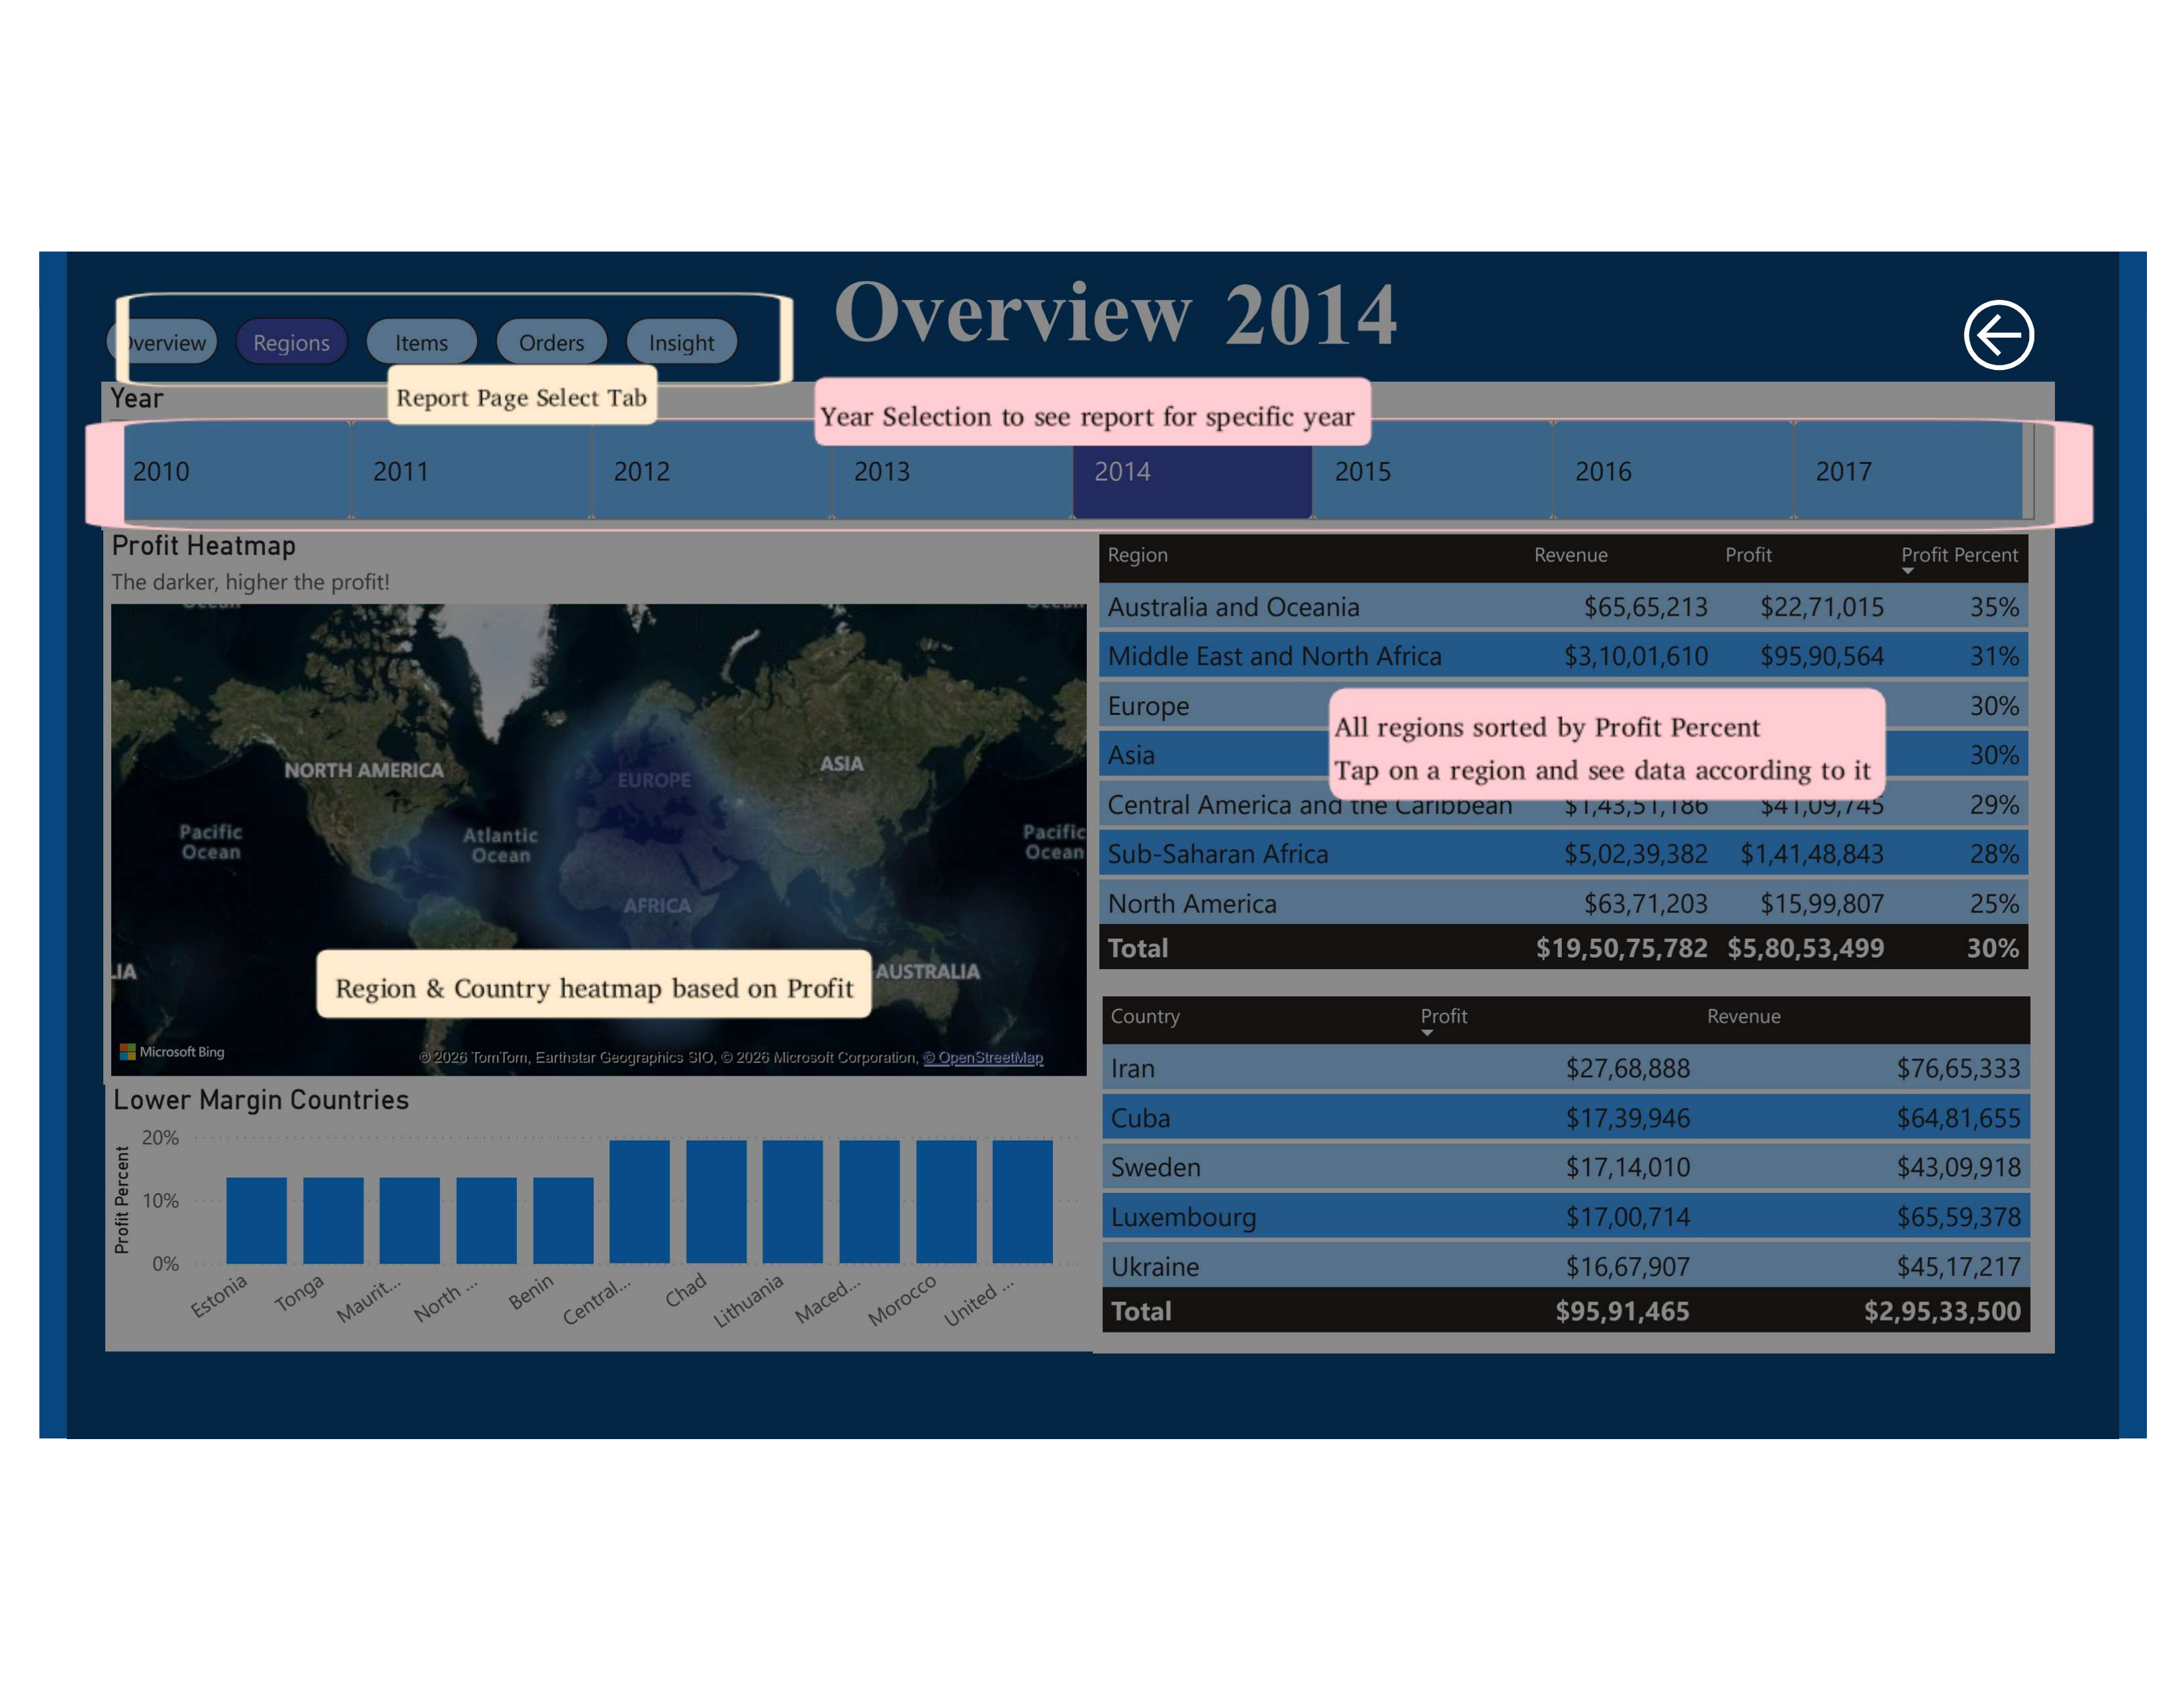

The page's visual inventory and layout, read from the dashboard file:
{"tool":"powerbi","page":{"name":"Regions","canvas":[1280,720],"ordinal":1},"visuals":[{"type":"textbox","box":[457.1,0,269.1,100.9],"z":0},{"type":"advancedSlicerVisual","fields":{"Values":["Date.Year"]},"box":[38.1,78.6,1185.7,90.5],"z":1000},{"type":"pageNavigator","box":[40.5,40.5,385.7,28.6],"z":3000},{"type":"card","fields":{"Values":["Records.This.Year"]},"box":[688.6,0,168.2,67.3],"z":4000},{"type":"map","title":"Profit Heatmap","fields":{"Category":["Country.Country"],"Size":["Records.This.Profit"]},"box":[39,167.6,601.7,337.6],"z":5000},{"type":"tableEx","title":"Revenue by Region","fields":{"Values":["Country.Region","Records.This.Revenue","Records.This.Profit","Records.Profit Percent"]},"box":[638.1,166.7,585.7,281],"z":6000},{"type":"tableEx","title":"Revenue by Region","fields":{"Values":["Country.Country","Records.This.Profit","Records.This.Revenue"]},"box":[639.9,446.6,584,221.2],"z":7000},{"type":"columnChart","title":"Lower Margin Countries","fields":{"Category":["Country.Country"],"Y":["Records.Profit Percent"]},"box":[39.6,504.4,600.3,162.6],"z":8000},{"type":"image","box":[0,0,1280,720],"z":9000},{"type":"actionButton","box":[1162.5,22.5,62.5,55],"z":10000}]}

Visuals, with their boxes on the page's 1280x720 design canvas (x1, y1, x2, y2). These are canvas units, not pixel positions in the 2184x1688 screenshot, which may show the page scaled, cropped or inside an application window:
textbox: box=[457, 0, 726, 101]
advancedSlicerVisual - Date.Year: box=[38, 79, 1224, 169]
pageNavigator: box=[40, 40, 426, 69]
card - Records.This.Year: box=[689, 0, 857, 67]
"Profit Heatmap" map: box=[39, 168, 641, 505]
"Revenue by Region" tableEx: box=[638, 167, 1224, 448]
"Revenue by Region" tableEx: box=[640, 447, 1224, 668]
"Lower Margin Countries" columnChart: box=[40, 504, 640, 667]
image: box=[0, 0, 1280, 720]
actionButton: box=[1162, 22, 1225, 78]
